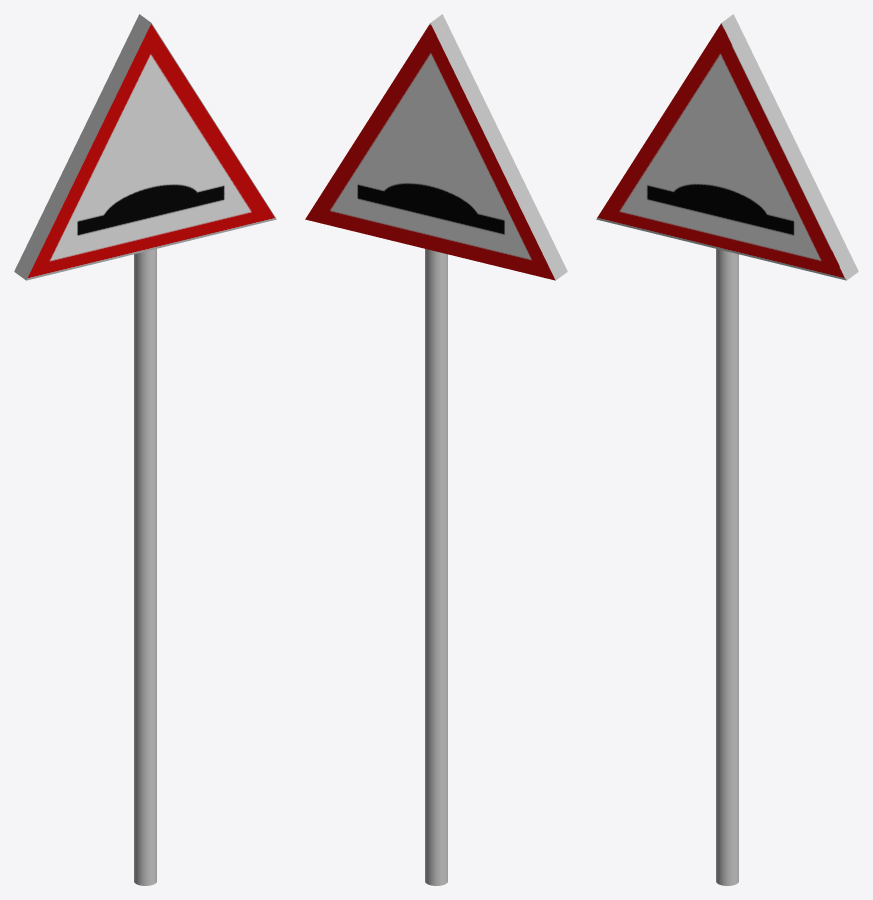
File: speed_bump_sign.dae
The picture shows the model from 3 angles, left to right: view 1: azimuth 30°, elevation 25°; view 2: azimuth 150°, elevation 25°; view 3: azimuth 330°, elevation 25°; orthographic projection.
Visible parts, largest first — view 1: Speed_Bump, Speed_Bump_Pole; view 2: Speed_Bump, Speed_Bump_Pole; view 3: Speed_Bump, Speed_Bump_Pole.
Boxes of the visible parts, x1=… form: Speed_Bump: x1=14, y1=14, x2=276, y2=280; Speed_Bump_Pole: x1=134, y1=249, x2=156, y2=885; Speed_Bump: x1=305, y1=14, x2=567, y2=280; Speed_Bump_Pole: x1=425, y1=249, x2=447, y2=885; Speed_Bump: x1=596, y1=14, x2=858, y2=280; Speed_Bump_Pole: x1=716, y1=249, x2=738, y2=885.
Size of the model in its own units: 0.9908 by 0.0836 by 3.26.
Materials: 1 (1 with a texture image).
